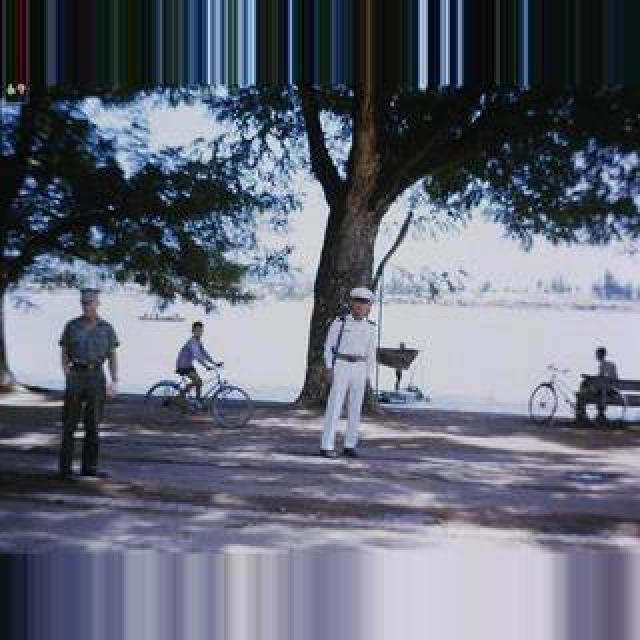MC-Bike: (58, 288, 122, 480), (318, 288, 378, 458), (174, 320, 224, 406), (578, 346, 620, 420)
Person: (144, 360, 252, 430), (527, 363, 633, 427)
